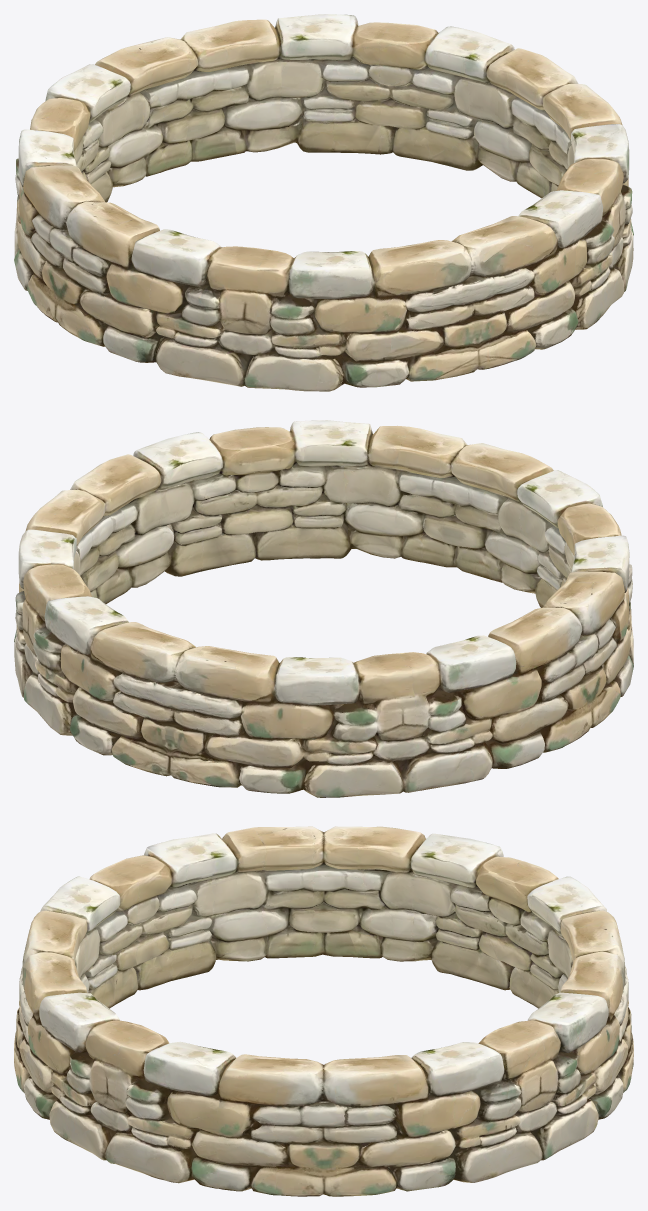
File: tree-ring.glb
3 renders of one model, top to bottom at view 1: azimuth 30°, elevation 25°; view 2: azimuth 150°, elevation 25°; view 3: azimuth 270°, elevation 25°, orthographic.
Bounding box in the file's own units: 1.9 × 0.4088 × 1.9.
Materials: 1 (1 with a texture image).
